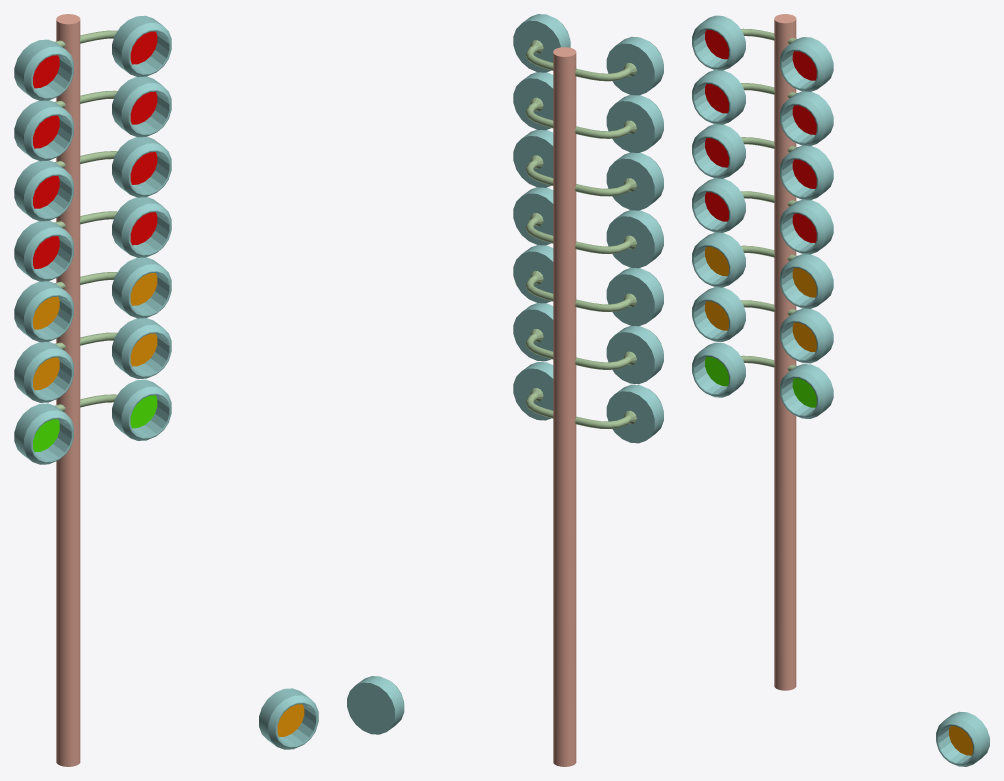
File: Semaforo.FBX
3 views of the same model, side by side, from view 1: azimuth 30°, elevation 25°; view 2: azimuth 150°, elevation 25°; view 3: azimuth 330°, elevation 25° (orthographic). The views are drawn at different scales.
Parts seen in each view (by area): view 1: Cylinder002, Line061; view 2: Cylinder002, Line061; view 3: Cylinder002, Line061.
Boxes of the visible parts, x1,y1,x2,y2 form: Cylinder002: [14, 14, 171, 766]; Line061: [259, 688, 318, 749]; Cylinder002: [513, 14, 663, 766]; Line061: [347, 676, 404, 734]; Cylinder002: [692, 14, 833, 690]; Line061: [936, 711, 989, 766].
Size of the model in its own units: 95.13 by 229 by 20.94.
